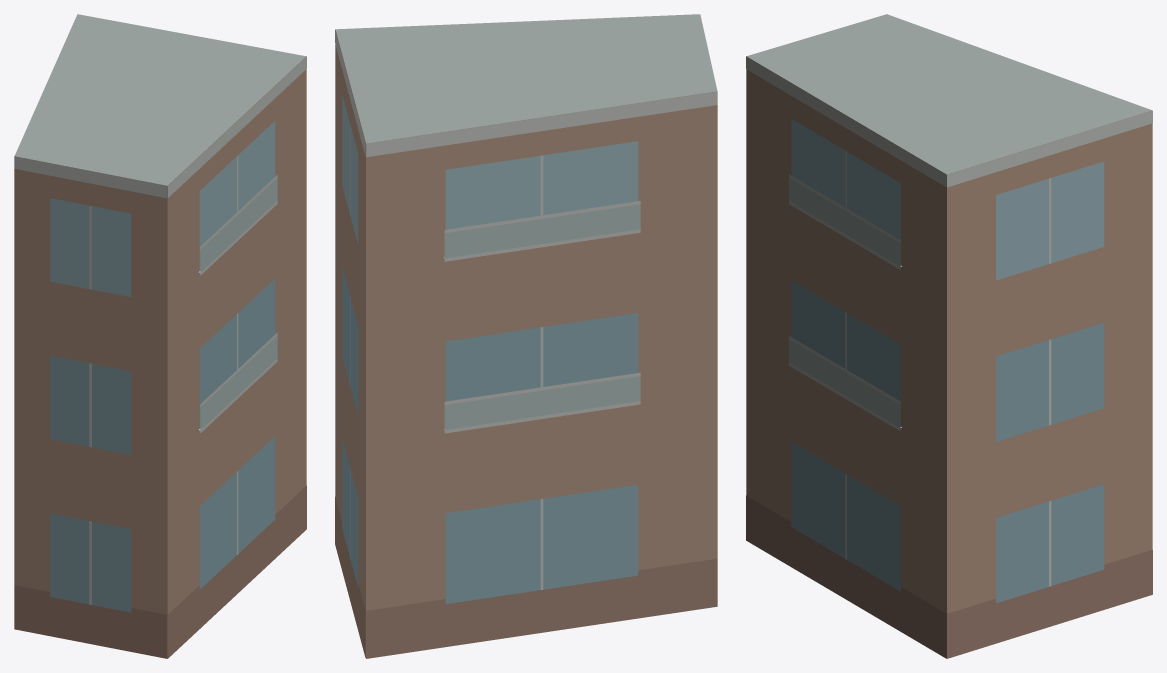
The model's file is survey-upis-32504265.glb.
3 views of the same model, side by side, from view 1: azimuth 30°, elevation 25°; view 2: azimuth 150°, elevation 25°; view 3: azimuth 270°, elevation 25° (orthographic). The views are drawn at different scales.
Visible parts, largest first — view 1: survey-upis-32504265.tmp; view 2: survey-upis-32504265.tmp; view 3: survey-upis-32504265.tmp.
Boxes of the visible parts, x1,y1,x2,y2 form: survey-upis-32504265.tmp: (14, 14, 306, 658); survey-upis-32504265.tmp: (335, 14, 717, 658); survey-upis-32504265.tmp: (746, 14, 1152, 658).
Size of the model in its own units: 6.52 by 9.15 by 6.97.
